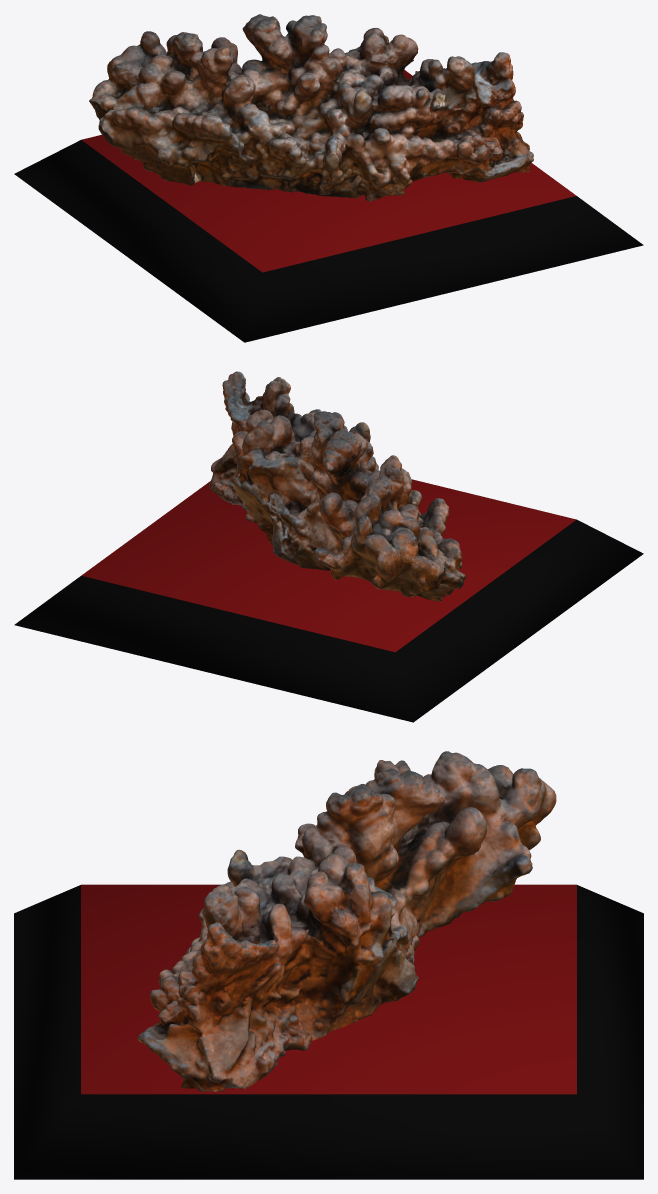
File: Goethita.glb
The picture shows the model from 3 angles, top to bottom: view 1: azimuth 30°, elevation 25°; view 2: azimuth 150°, elevation 25°; view 3: azimuth 270°, elevation 25°; orthographic projection. The views are drawn at different scales.
Parts seen in each view (by area): view 1: texturedMesh; view 2: texturedMesh; view 3: texturedMesh.
Boxes of the visible parts, <box> form: texturedMesh: <box>14,14,643,342</box>; texturedMesh: <box>14,371,643,722</box>; texturedMesh: <box>14,751,643,1179</box>.
Size of the model in its own units: 10 by 4.46 by 10.
5 materials, 3 textured.
